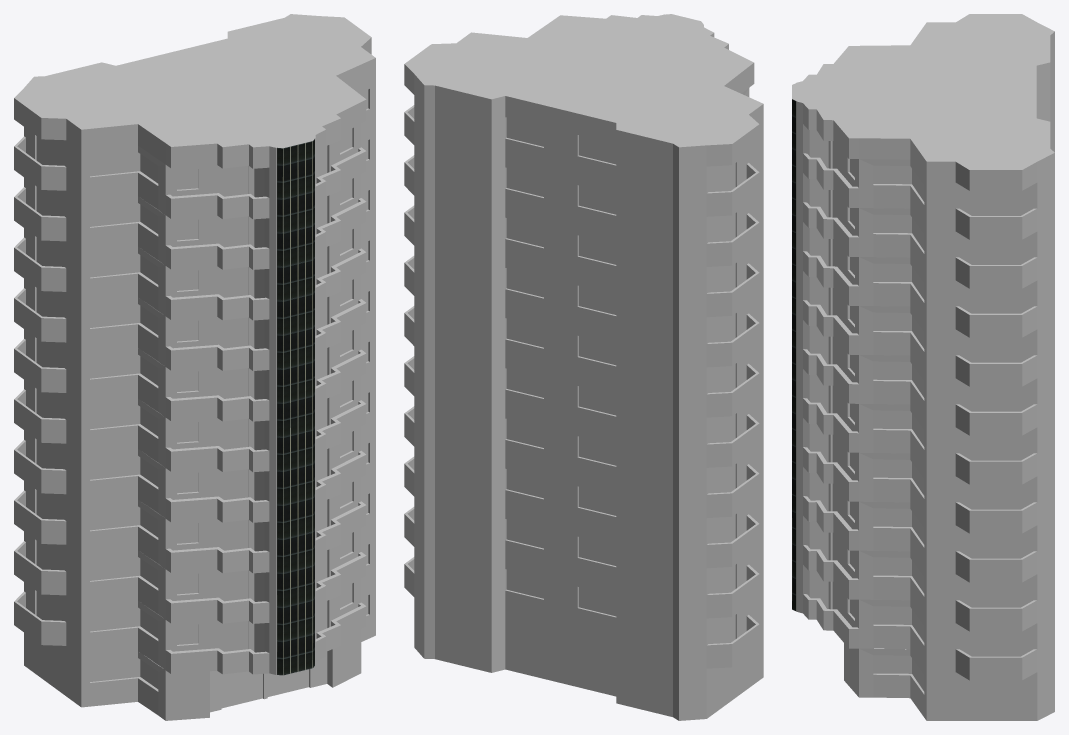
The picture shows the model from 3 angles, left to right: view 1: azimuth 30°, elevation 25°; view 2: azimuth 150°, elevation 25°; view 3: azimuth 270°, elevation 25°; orthographic projection. The views are drawn at different scales.
Parts seen in each view (by area): view 1: BR-022; view 2: BR-022; view 3: BR-022.
Boxes of the visible parts, box(x1,y1,x2,y2) form: BR-022: box(14, 14, 375, 720); BR-022: box(404, 14, 763, 720); BR-022: box(792, 14, 1054, 720).
Size of what is drawn, in the model's own units: 20.51 by 34.27 by 14.59.
